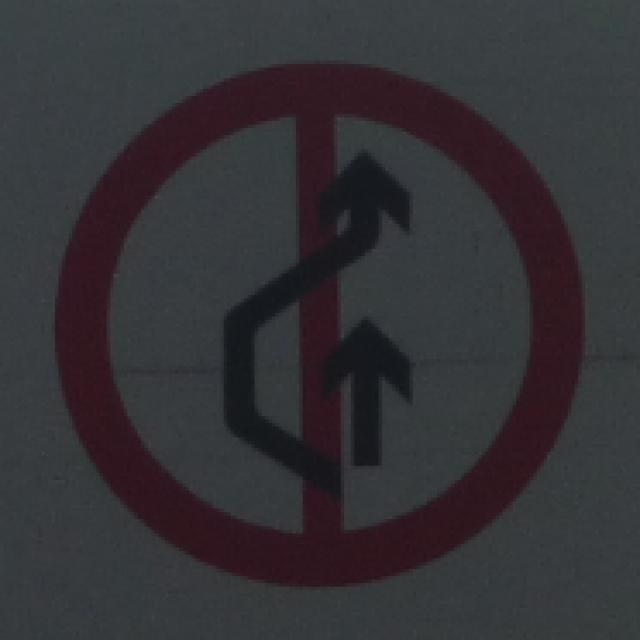Not that Direction: (70, 52, 564, 570)
